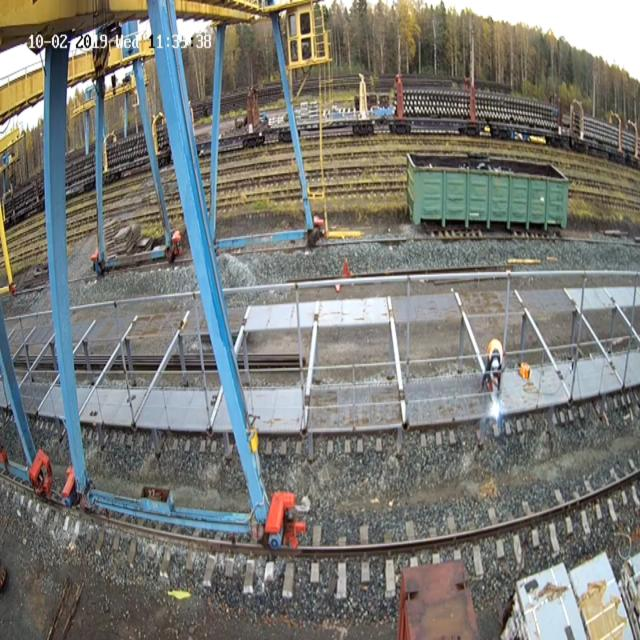Helmet: (487, 338, 503, 366), (172, 230, 181, 243)
Person: (482, 334, 511, 398), (168, 229, 183, 263)
